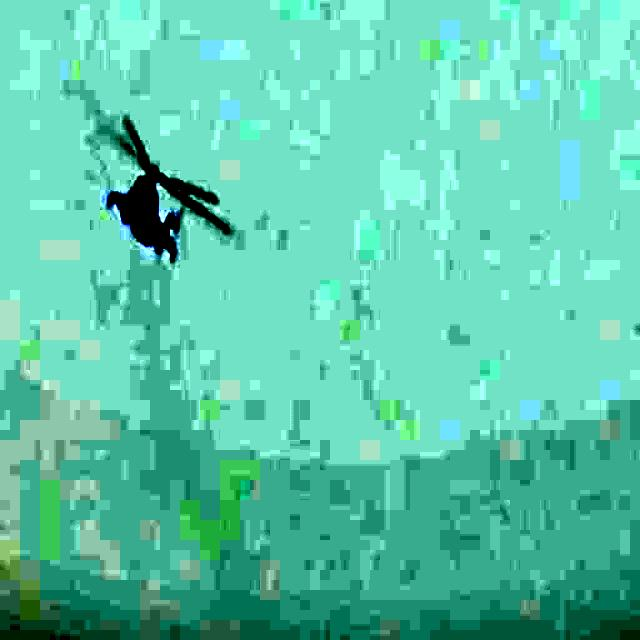drone: (110, 116, 222, 266)
